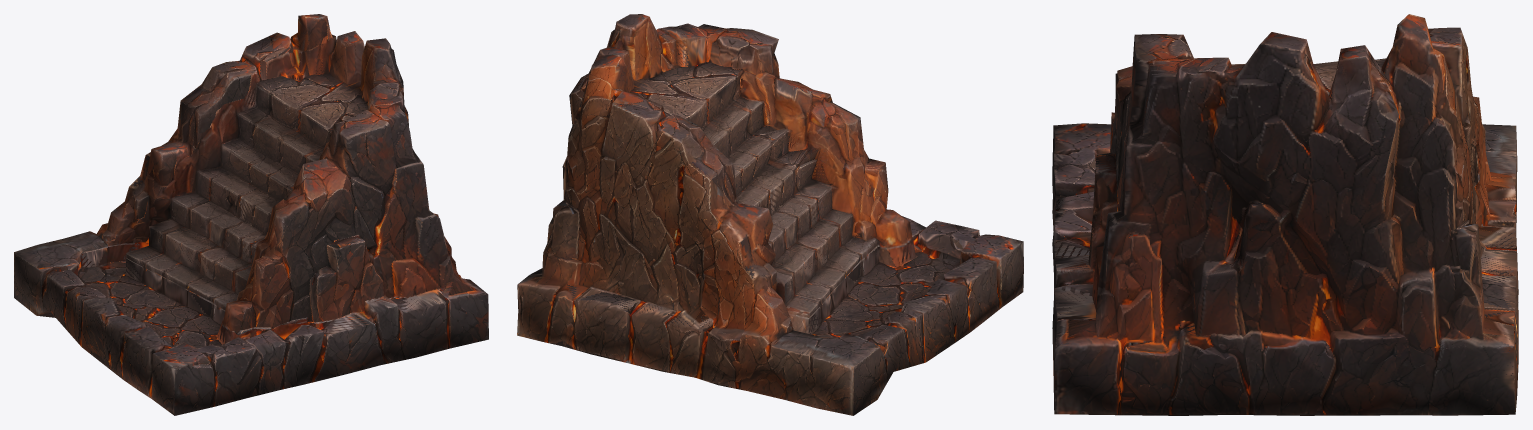
Rendered from Tile_Lava_StairsUp.fbx.
The picture shows the model from 3 angles, left to right: view 1: azimuth 30°, elevation 25°; view 2: azimuth 150°, elevation 25°; view 3: azimuth 270°, elevation 25°; orthographic projection. The views are drawn at different scales.
Parts seen in each view (by area): view 1: texture_mapping; view 2: texture_mapping; view 3: texture_mapping.
Boxes of the visible parts, bbox=[...] form: texture_mapping: bbox=[14, 14, 488, 415]; texture_mapping: bbox=[517, 14, 1023, 415]; texture_mapping: bbox=[1052, 14, 1518, 415].
Bounding box in the file's own units: 1 × 0.8809 × 0.7488.
Materials: 1 (1 with a texture image).
